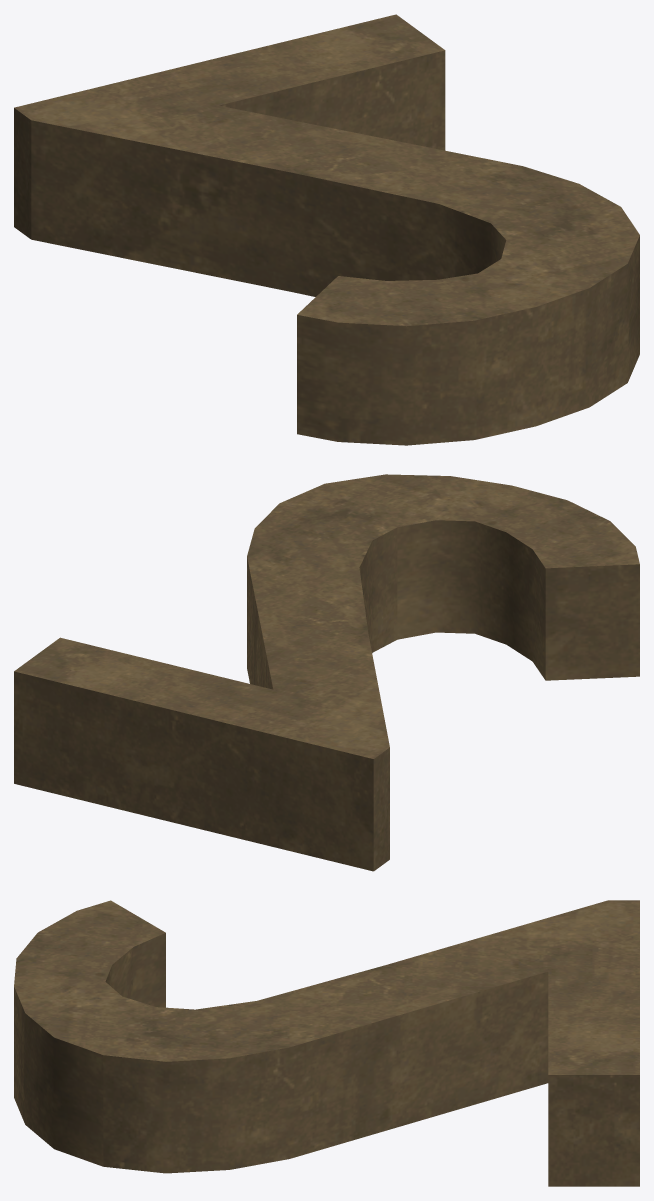
File: p6_3d_txt_levenim_frnt_gold_2_LOD0.obj
3 views of the same model, one above another, from view 1: azimuth 30°, elevation 25°; view 2: azimuth 150°, elevation 25°; view 3: azimuth 270°, elevation 25° (orthographic). The views are drawn at different scales.
Visible parts, largest first — view 1: dub_gold_shiny_01; view 2: dub_gold_shiny_01; view 3: dub_gold_shiny_01.
Part boxes in pixels (bbox=[...]): dub_gold_shiny_01: bbox=[14, 14, 639, 445]; dub_gold_shiny_01: bbox=[14, 474, 639, 871]; dub_gold_shiny_01: bbox=[14, 900, 639, 1186].
Size of the model in its own units: 64.8 by 19.34 by 98.27.
